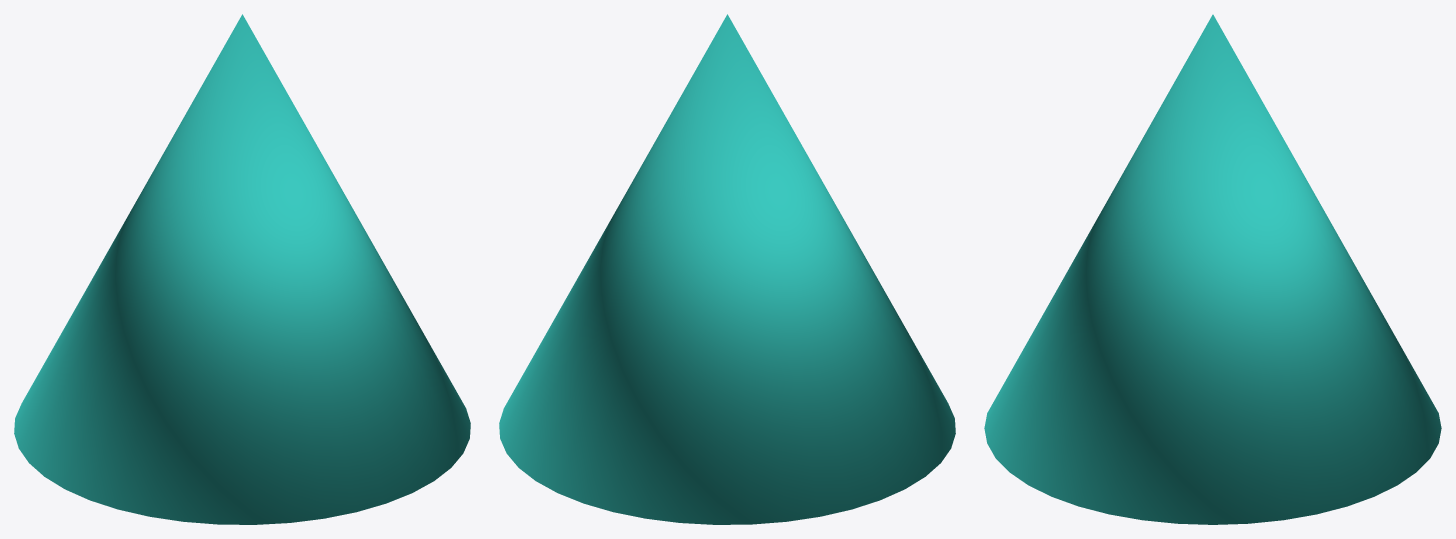
File: cone-quality.glb
3 views of the same model, side by side, from view 1: azimuth 30°, elevation 25°; view 2: azimuth 150°, elevation 25°; view 3: azimuth 270°, elevation 25° (orthographic).
Parts seen in each view (by area): view 1: Cone; view 2: Cone; view 3: Cone.
Boxes of the visible parts, bbox=[...] form: Cone: bbox=[14, 14, 470, 524]; Cone: bbox=[499, 14, 955, 524]; Cone: bbox=[984, 14, 1441, 524].
Bounding box in the file's own units: 1.6 × 1.6 × 1.6.
